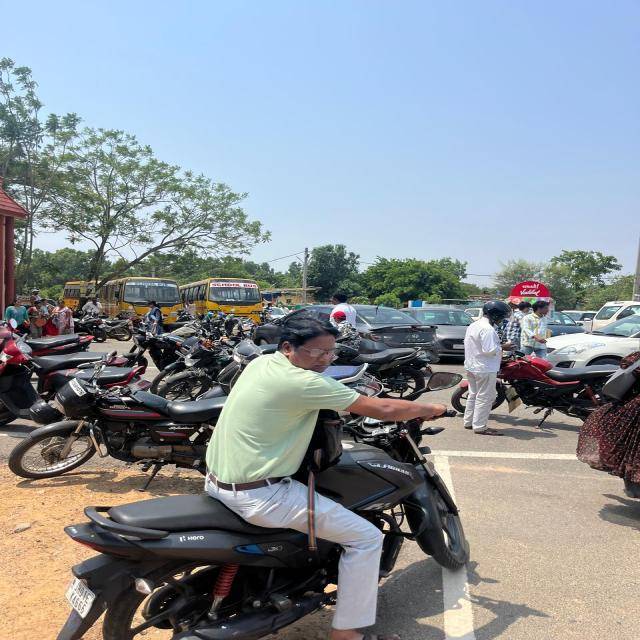bike: (48, 420, 489, 640), (10, 370, 261, 500), (474, 345, 631, 443), (0, 344, 146, 427), (348, 342, 443, 401), (163, 343, 224, 400), (0, 322, 94, 354), (77, 315, 132, 341)
bus: (175, 274, 272, 328), (97, 276, 188, 326), (53, 272, 103, 314)
car: (285, 299, 449, 368), (543, 310, 640, 374), (404, 301, 483, 368), (593, 299, 640, 334), (546, 309, 583, 341), (565, 306, 598, 333), (261, 301, 285, 324)
